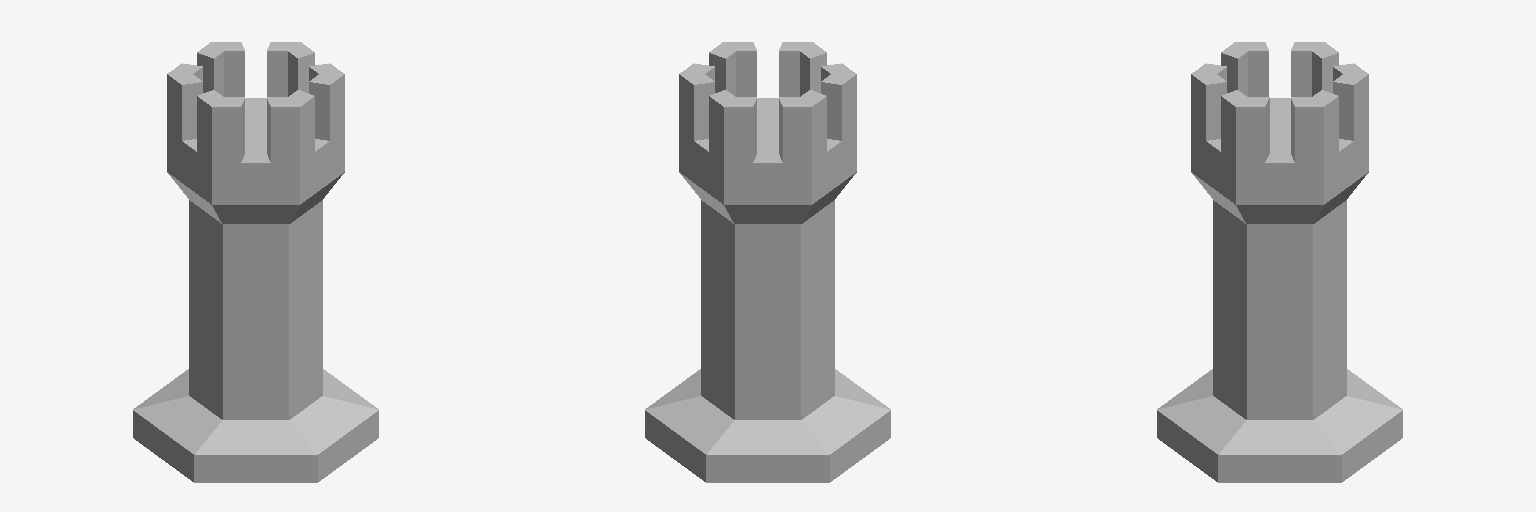
Rendered from Piece_Rook.obj.
3 renders of one model, left to right at view 1: azimuth 30°, elevation 25°; view 2: azimuth 150°, elevation 25°; view 3: azimuth 270°, elevation 25°, orthographic.
Visible parts, largest first — view 1: Piece_Rook_Cylinder; view 2: Piece_Rook_Cylinder; view 3: Piece_Rook_Cylinder.
Part boxes in pixels (bbox=[...]): Piece_Rook_Cylinder: bbox=[133, 42, 378, 482]; Piece_Rook_Cylinder: bbox=[645, 42, 890, 482]; Piece_Rook_Cylinder: bbox=[1157, 42, 1402, 482].
Bounding box in the file's own units: 0.6928 × 1.3 × 0.8.